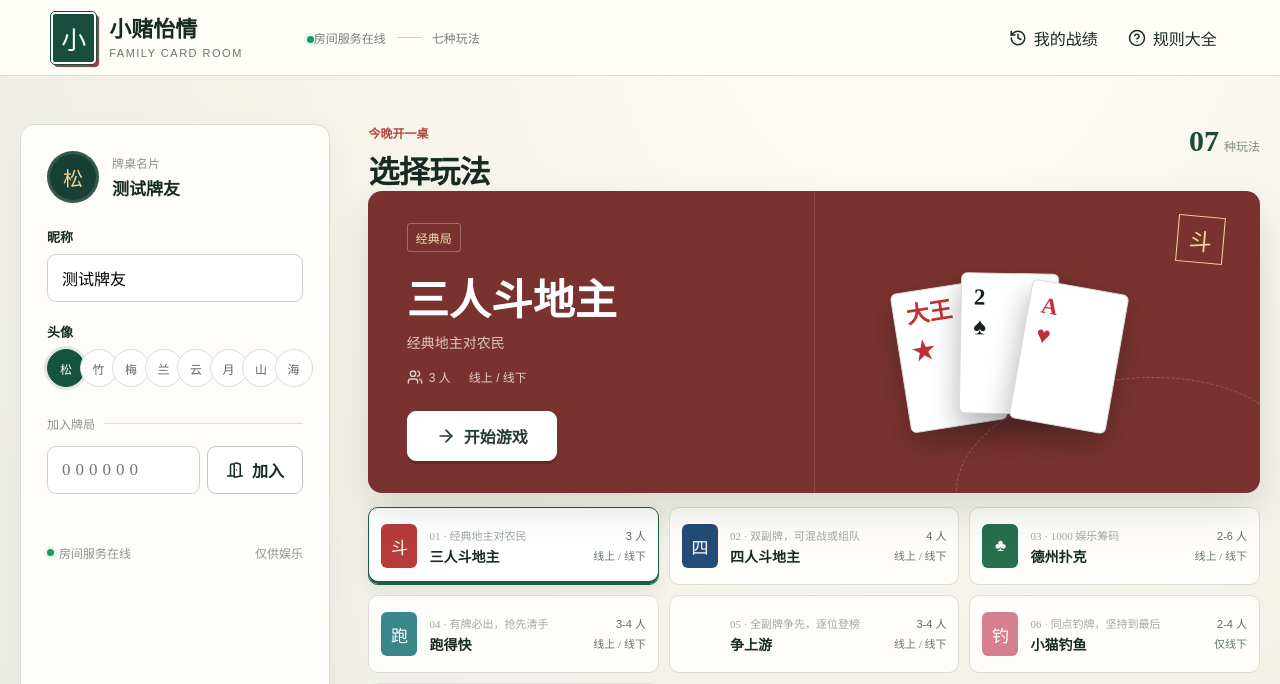
Test: 创建房间 › 德州新一街下注清零后仍显示所有玩家的筹码
Click the button "♣ 03 · 1000 娱乐筹码 德州扑克 2-6 人 线上 / 线下": (1000, 546) [970,507,1260,585]
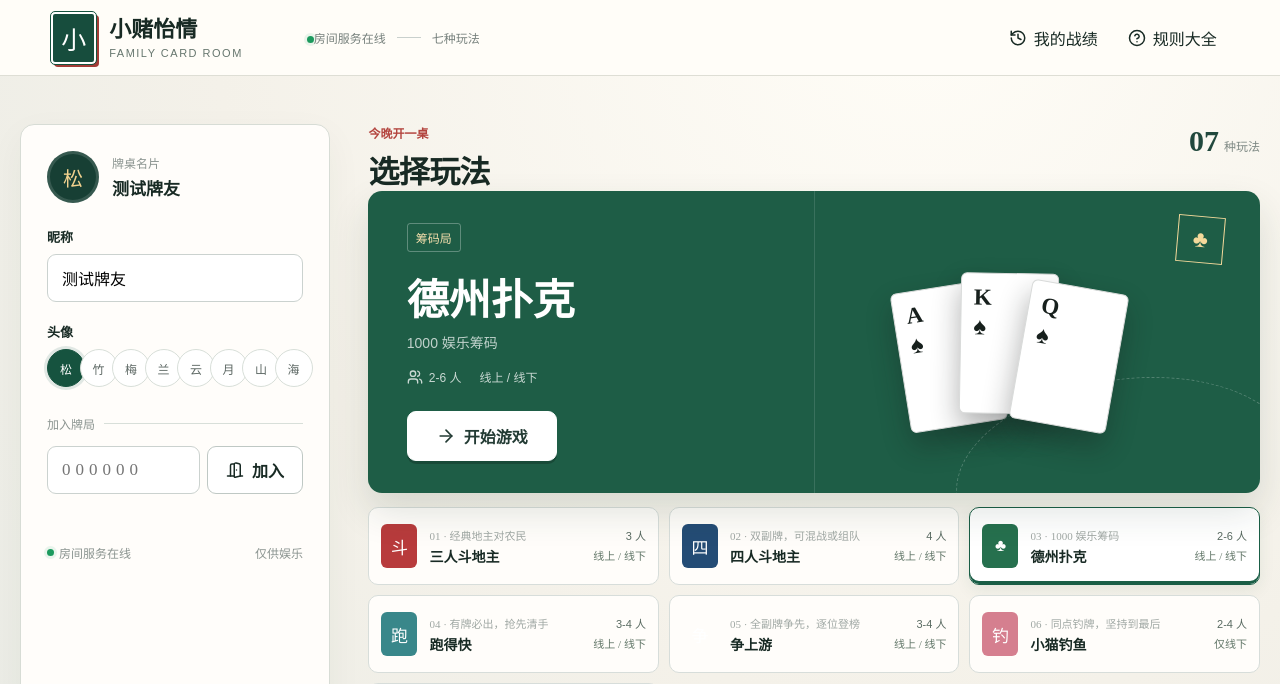
Click the button "开始游戏": (482, 436) [407,411,557,461]
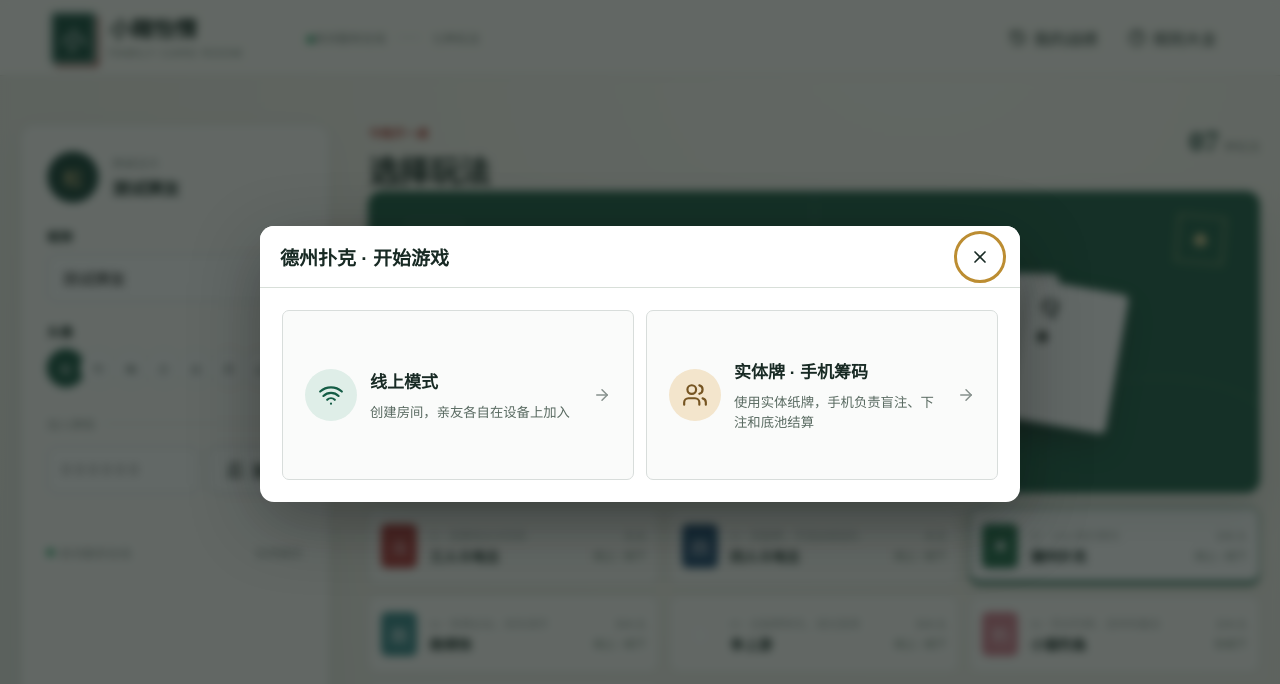
Click the button "线上模式 创建房间，亲友各自在设备上加入": (331, 395) [282,310,634,480]
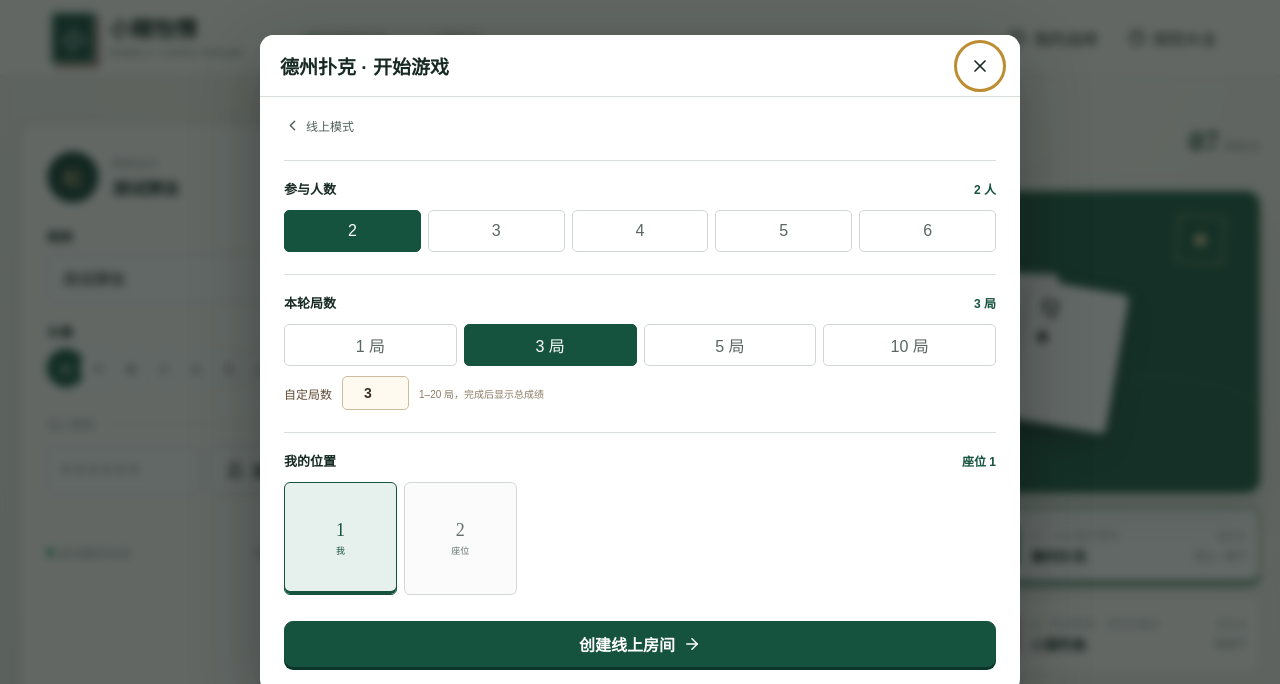
Click the button "创建线上房间": (640, 644) [284,621,996,667]
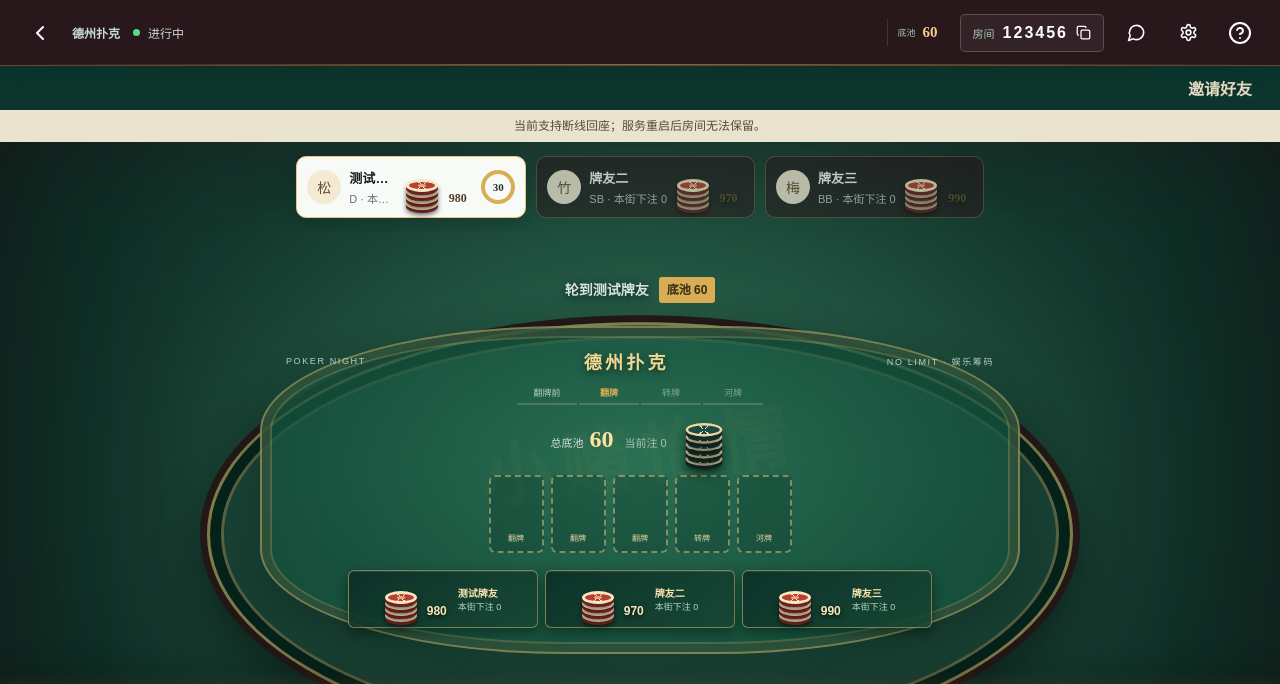
Check: the element showing "980 测试牌友 本街下注 0 970 牌友二 本街下注 0 990 牌友三 本街下注 0" is shown, box [320,570,960,628]
